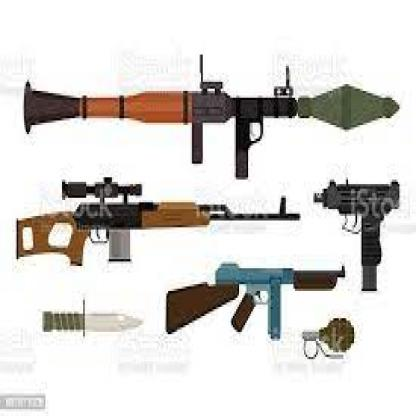Grenade: (302, 314, 355, 362)
Gun: (22, 52, 401, 183), (14, 174, 302, 268), (166, 260, 346, 342), (311, 176, 401, 293)
Knife: (43, 296, 143, 339)
